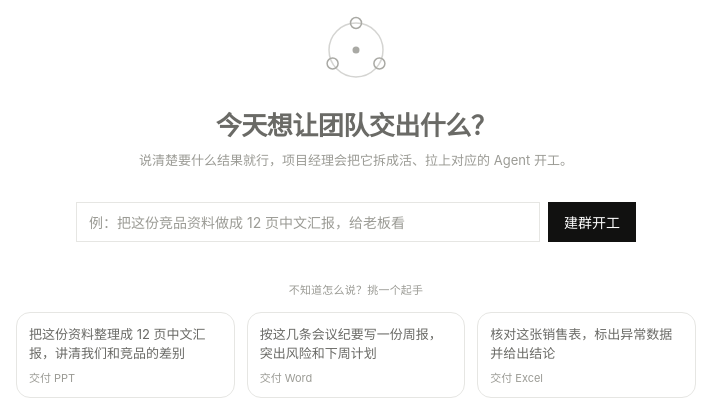
Test case: EmptyState · 欢迎态 › 点起手示例 → 那句话填进输入框（不是再造一颗未接线的按钮）
Click the text "核对这张销售表，标出异常数据并给出结论".
click(587, 344)  # box [490,325,683,363]
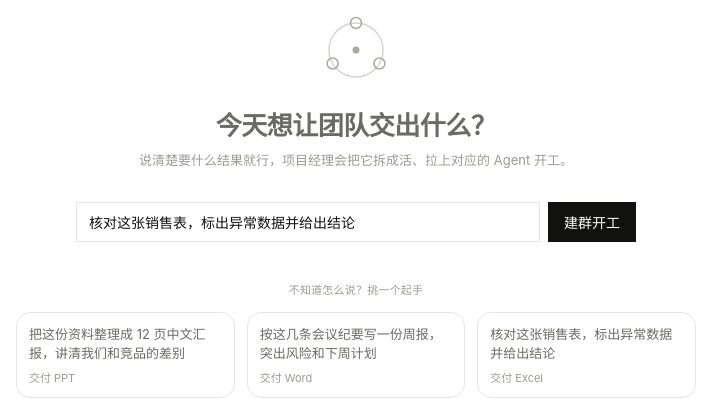
Check: the field with placeholder "例：把这份竞品资料做成 12 页中文汇报，给老板看" holds "核对这张销售表，标出异常数据并给出结论", box [76,202,540,242]
